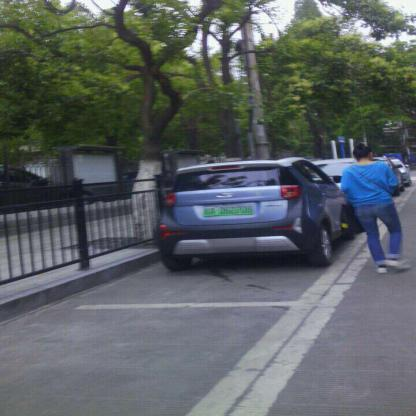lp: (203, 204, 254, 216)
